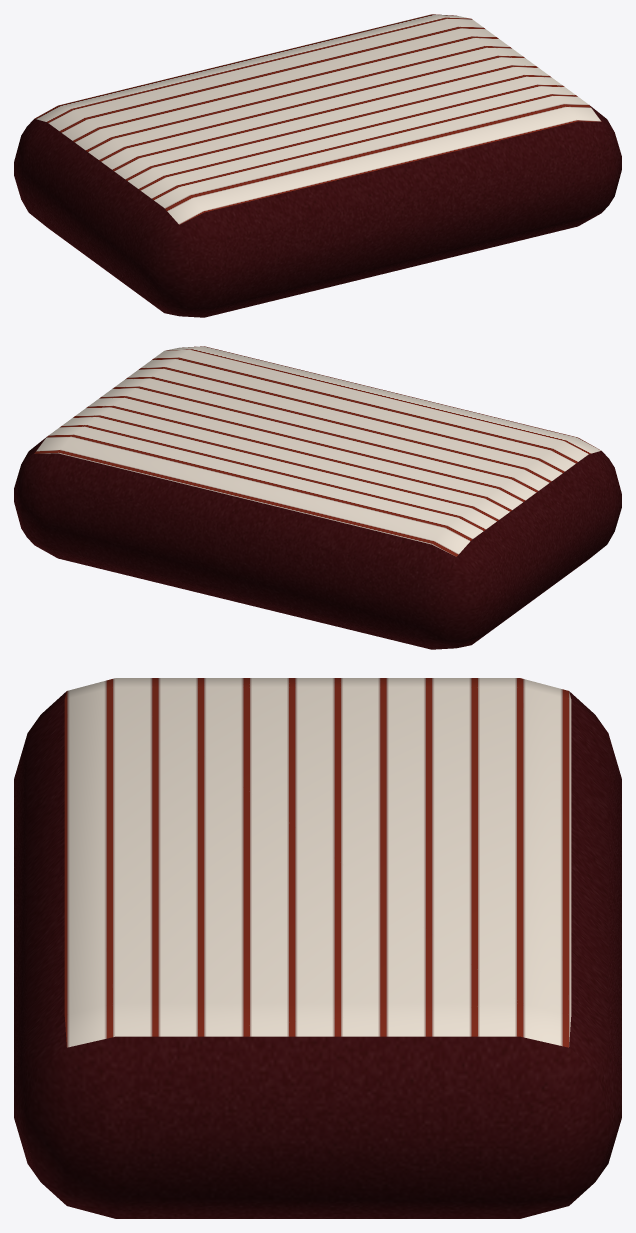
File: modern_cushion_01.glb
3 renders of one model, top to bottom at view 1: azimuth 30°, elevation 25°; view 2: azimuth 150°, elevation 25°; view 3: azimuth 270°, elevation 25°, orthographic. The views are drawn at different scales.
Parts seen in each view (by area): view 1: modern_cushion_01; view 2: modern_cushion_01; view 3: modern_cushion_01.
Part boxes in pixels (x1=…): modern_cushion_01: x1=14, y1=14, x2=621, y2=317; modern_cushion_01: x1=14, y1=346, x2=621, y2=649; modern_cushion_01: x1=14, y1=678, x2=621, y2=1218.
Bounding box in the file's own units: 0.75 × 0.18 × 0.48.
2 materials, 2 textured.
